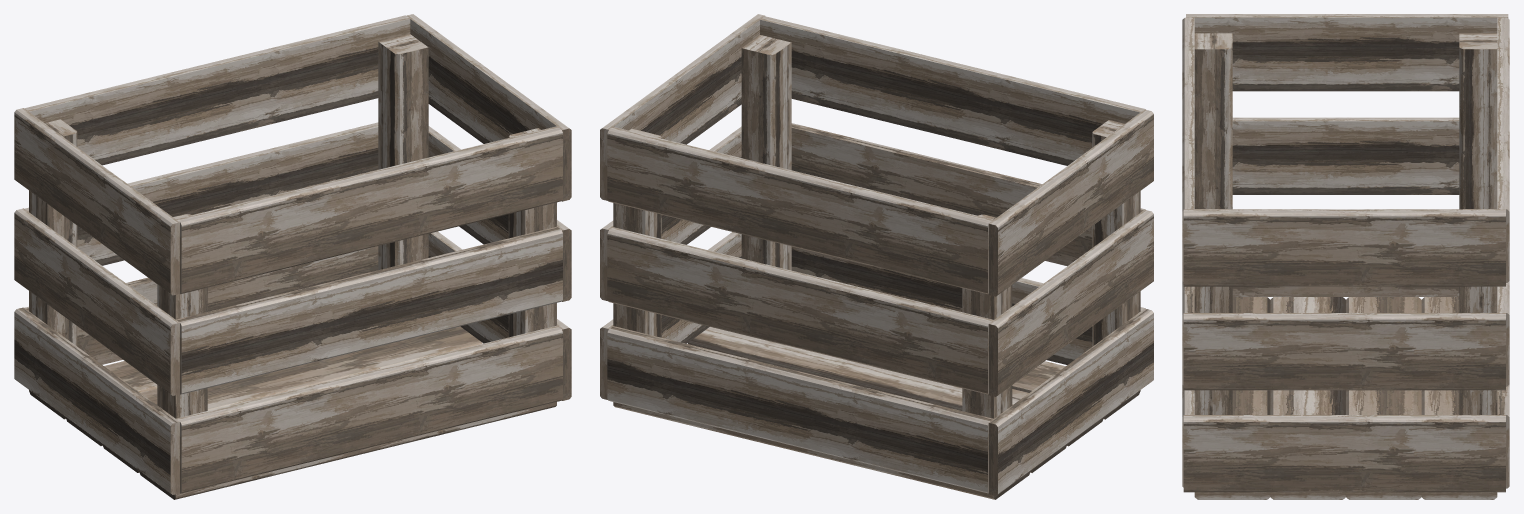
Rendered from crate.fbx.
3 views of the same model, side by side, from view 1: azimuth 30°, elevation 25°; view 2: azimuth 150°, elevation 25°; view 3: azimuth 270°, elevation 25° (orthographic). The views are drawn at different scales.
Visible parts, largest first — view 1: crate; view 2: crate; view 3: crate.
Boxes of the visible parts, x1,y1,x2,y2 form: crate: [14, 14, 571, 499]; crate: [600, 14, 1153, 499]; crate: [1182, 14, 1509, 499].
Size of the model in its own units: 12.58 by 8.48 by 8.66.
